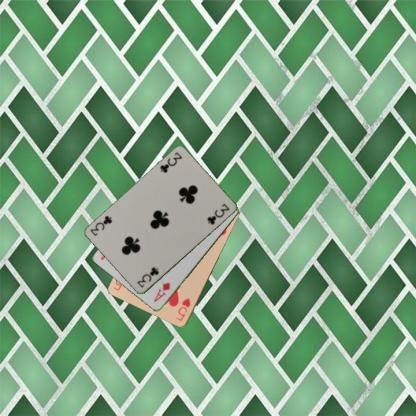3c: (134, 264, 160, 289), (157, 150, 183, 174)
5h: (173, 296, 192, 323)
Ad: (151, 280, 171, 304)
